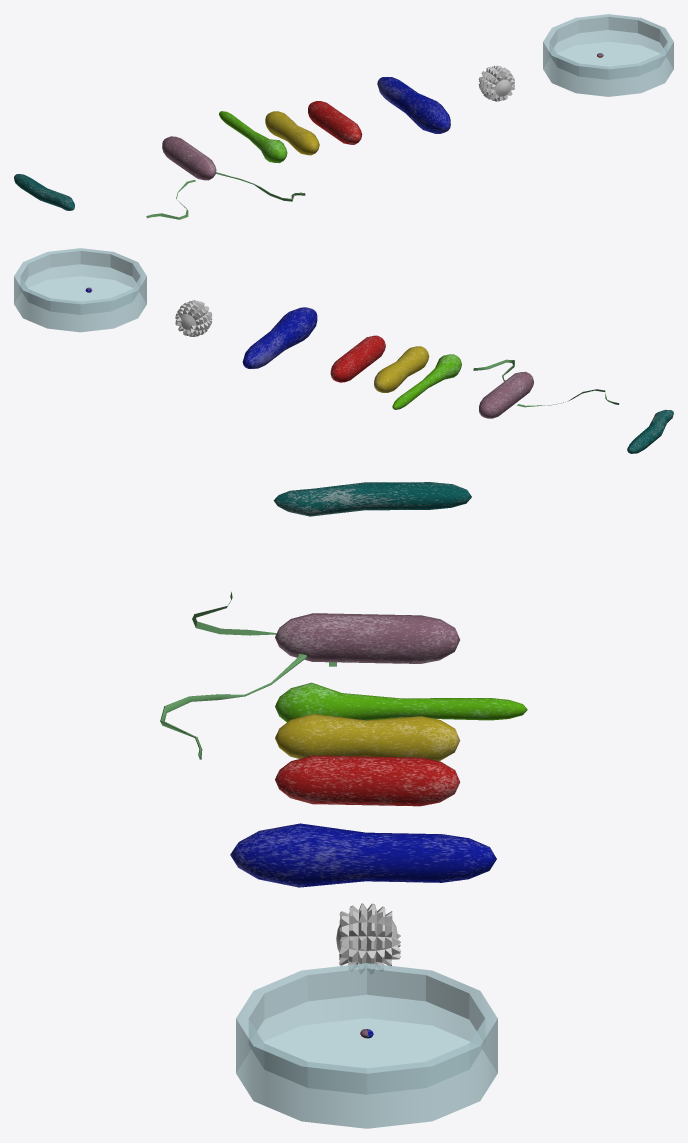
File: bactiriya models.fbx
3 views of the same model, one above another, from view 1: azimuth 30°, elevation 25°; view 2: azimuth 150°, elevation 25°; view 3: azimuth 270°, elevation 25° (orthographic). The views are drawn at different scales.
Parts seen in each view (by area): view 1: pCylinder8, pCylinder5, pCylinder7, pCylinder1, pCylinder3, pCylinder4, pCylinder6, pCylinder10; view 2: pCylinder8, pCylinder5, pCylinder1, pCylinder7, pCylinder3, pCylinder4, pCylinder6, pCylinder10; view 3: pCylinder8, pCylinder5, pCylinder1, pCylinder7, pCylinder3, pCylinder4, pCylinder10, pCylinder6, pPlane3.
Boxes of the visible parts, x1,y1,x2,y2 form: pCylinder8: (543,14,673,96); pCylinder5: (377,77,450,133); pCylinder7: (162,136,216,180); pCylinder1: (308,101,362,144); pCylinder3: (265,111,319,155); pCylinder4: (219,111,287,163); pCylinder6: (478,65,514,101); pCylinder10: (14,174,74,210); pCylinder8: (14,248,146,332); pCylinder5: (242,307,317,368); pCylinder1: (330,335,385,382); pCylinder7: (479,371,533,418); pCylinder3: (374,346,429,392); pCylinder4: (392,354,461,409); pCylinder6: (175,300,212,336); pCylinder10: (627,409,673,453); pCylinder8: (236,963,497,1128); pCylinder5: (230,823,496,887); pCylinder1: (275,755,460,806); pCylinder7: (275,613,459,663); pCylinder3: (275,714,460,760); pCylinder4: (275,682,527,722); pCylinder10: (273,482,471,516); pCylinder6: (336,903,400,973); pPlane3: (160,653,306,759).
Bounding box in the file's own units: 1111 × 68.25 × 281.
